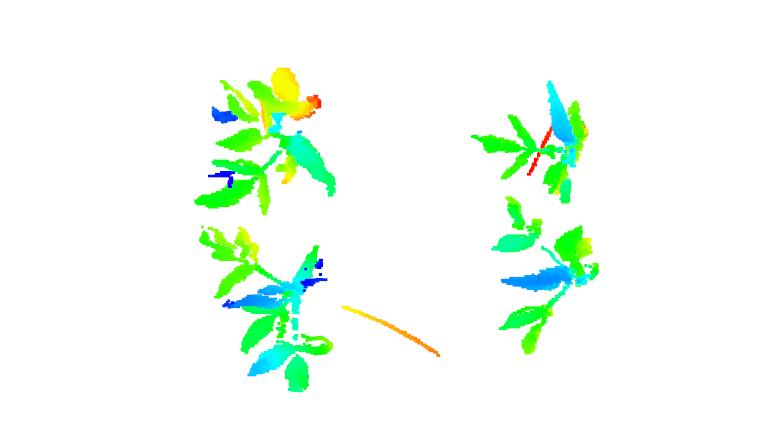mungbean: (197, 222, 339, 398), (194, 59, 336, 218), (492, 198, 600, 358), (469, 78, 592, 204)
